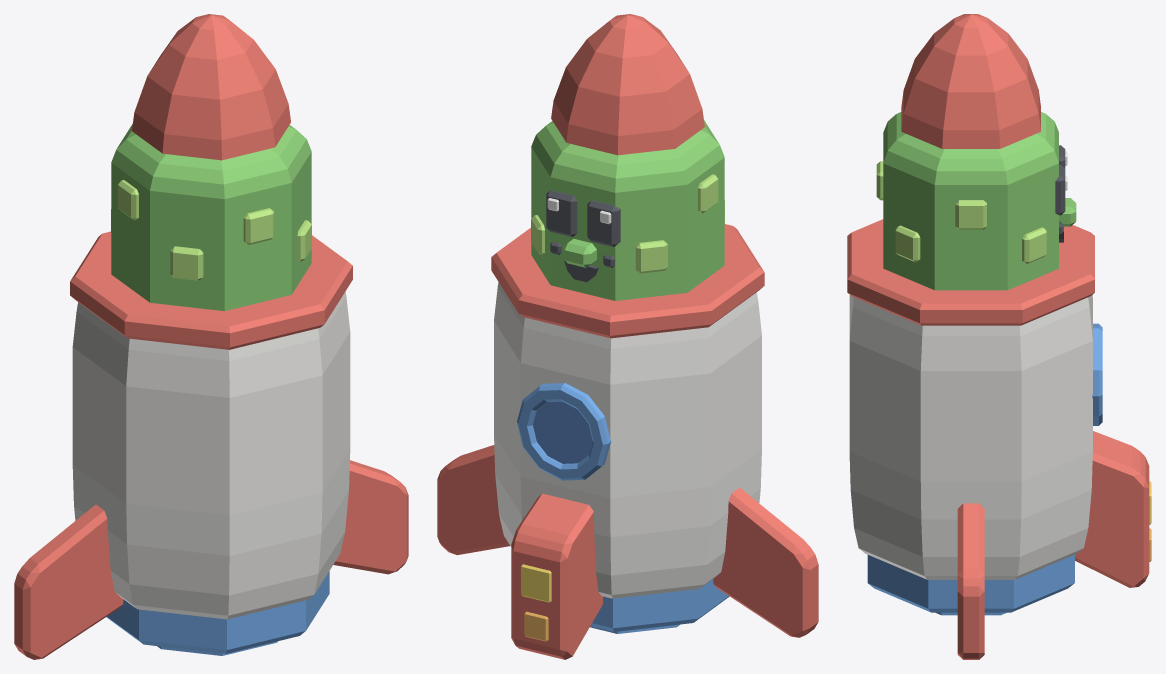
The model's file is ToylandToyRocketCucumber.fbx.
The picture shows the model from 3 angles, left to right: view 1: azimuth 30°, elevation 25°; view 2: azimuth 150°, elevation 25°; view 3: azimuth 270°, elevation 25°; orthographic projection. The views are drawn at different scales.
Parts seen in each view (by area): view 1: ToylandToyRocketCucumber.Hull, ToylandToyRocketCucumber.Red, ToylandToyRocketCucumber.Head, ToylandToyRocketCucumber.Blue, ToylandToyRocketCucumber.HeadStuds; view 2: ToylandToyRocketCucumber.Red, ToylandToyRocketCucumber.Hull, ToylandToyRocketCucumber.Head, ToylandToyRocketCucumber.Blue, ToylandToyRocketCucumber.Eyes, ToylandToyRocketCucumber.PortholeGlass, ToylandToyRocketCucumber.HeadStuds, ToylandToyRocketCucumber.DotYellow, ToylandToyRocketCucumber.DotOrange; view 3: ToylandToyRocketCucumber.Hull, ToylandToyRocketCucumber.Red, ToylandToyRocketCucumber.Head, ToylandToyRocketCucumber.Blue, ToylandToyRocketCucumber.HeadStuds, ToylandToyRocketCucumber.Eyes.
Boxes of the visible parts, <box> form: ToylandToyRocketCucumber.Hull: <box>72,291,350,619</box>; ToylandToyRocketCucumber.Red: <box>14,14,408,659</box>; ToylandToyRocketCucumber.Head: <box>111,124,311,311</box>; ToylandToyRocketCucumber.Blue: <box>106,571,329,655</box>; ToylandToyRocketCucumber.HeadStuds: <box>111,180,311,280</box>; ToylandToyRocketCucumber.Red: <box>437,14,818,659</box>; ToylandToyRocketCucumber.Hull: <box>494,282,761,598</box>; ToylandToyRocketCucumber.Head: <box>531,120,724,300</box>; ToylandToyRocketCucumber.Blue: <box>517,383,729,633</box>; ToylandToyRocketCucumber.Eyes: <box>546,190,620,282</box>; ToylandToyRocketCucumber.PortholeGlass: <box>533,401,592,463</box>; ToylandToyRocketCucumber.HeadStuds: <box>531,174,724,273</box>; ToylandToyRocketCucumber.DotYellow: <box>521,564,551,602</box>; ToylandToyRocketCucumber.DotOrange: <box>524,611,548,641</box>; ToylandToyRocketCucumber.Hull: <box>849,295,1092,579</box>; ToylandToyRocketCucumber.Red: <box>847,14,1149,659</box>; ToylandToyRocketCucumber.Head: <box>883,112,1076,290</box>; ToylandToyRocketCucumber.Blue: <box>867,323,1102,615</box>; ToylandToyRocketCucumber.HeadStuds: <box>876,161,1046,263</box>; ToylandToyRocketCucumber.Eyes: <box>1055,145,1065,242</box>.
Bounding box in the file's own units: 3.44 × 5.16 × 2.5.
